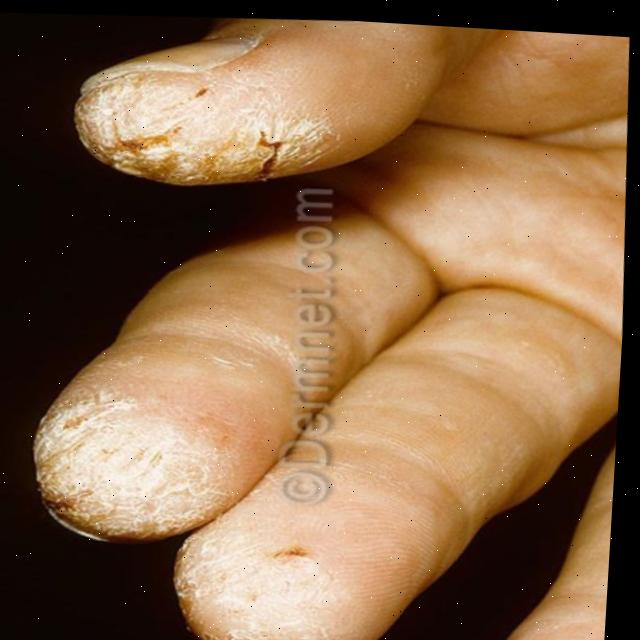Eczema: (80, 50, 307, 204), (15, 388, 208, 518), (234, 551, 325, 640)
